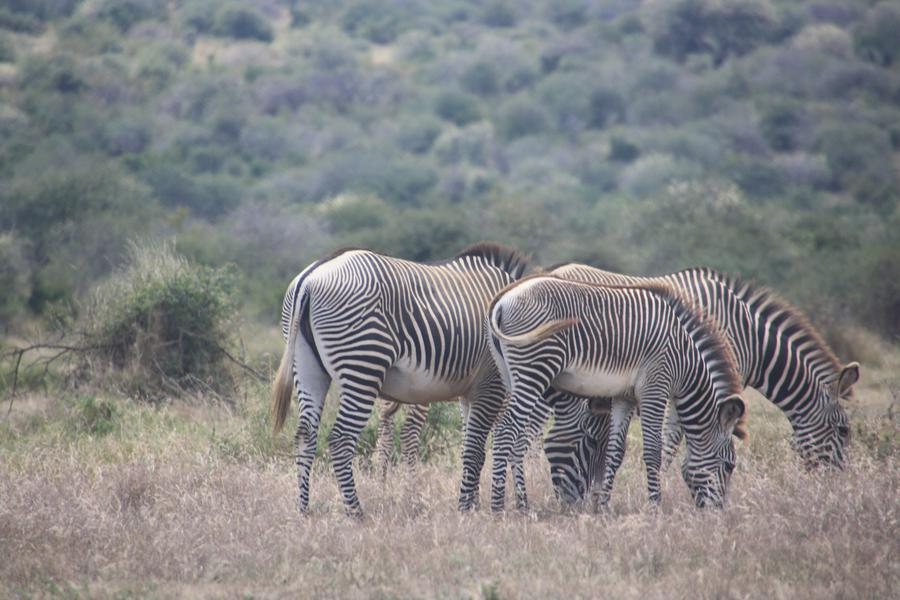zebra_grevys: (272, 236, 476, 385), (500, 274, 668, 400)
